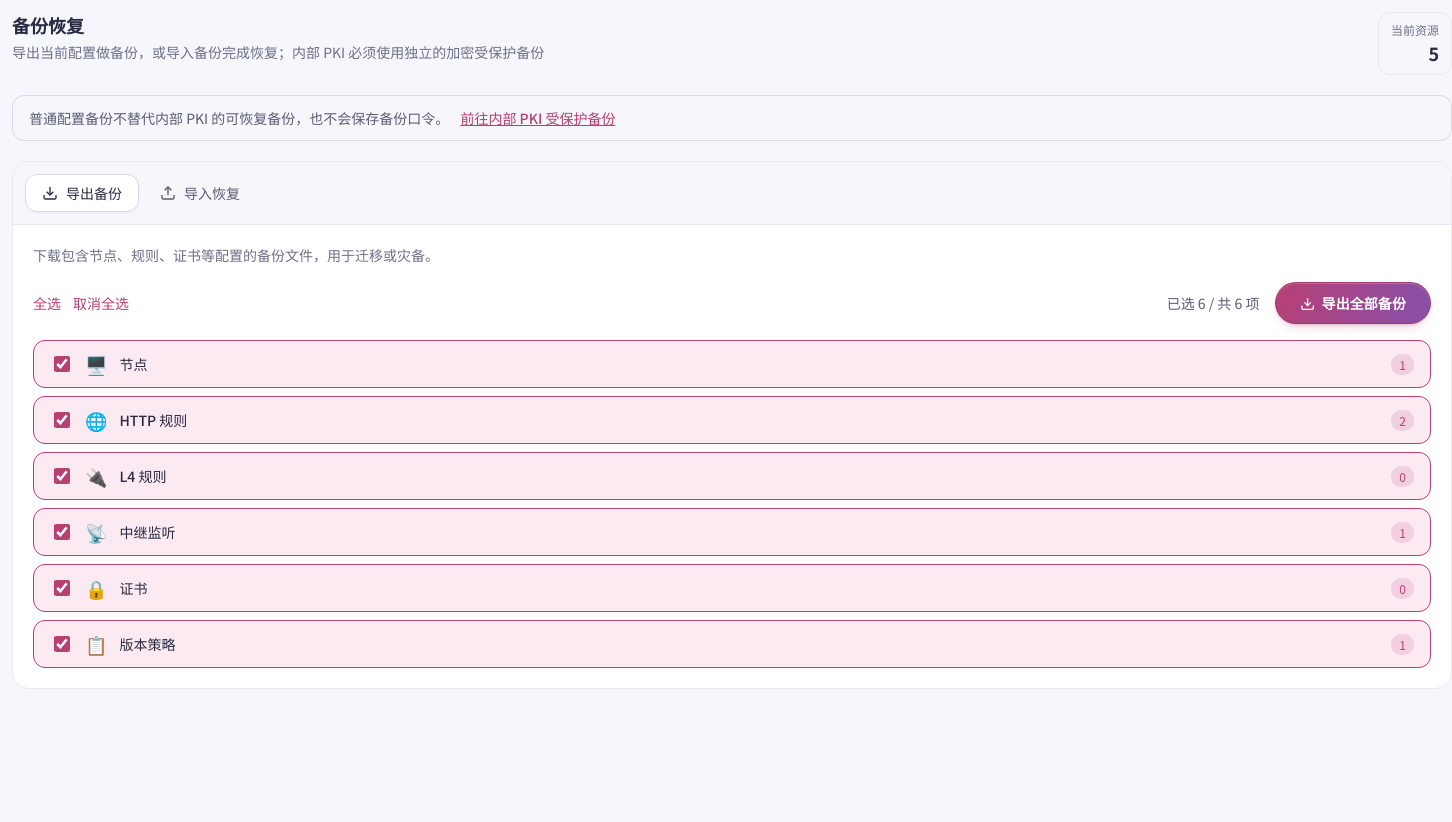
Test case: SettingsDataMgmt › switches to import panel when import tab is clicked
The width and height of the screenshot is (1452, 822).
Click the tab "导入恢复".
click(200, 193)  # box 143,174 -> 257,212
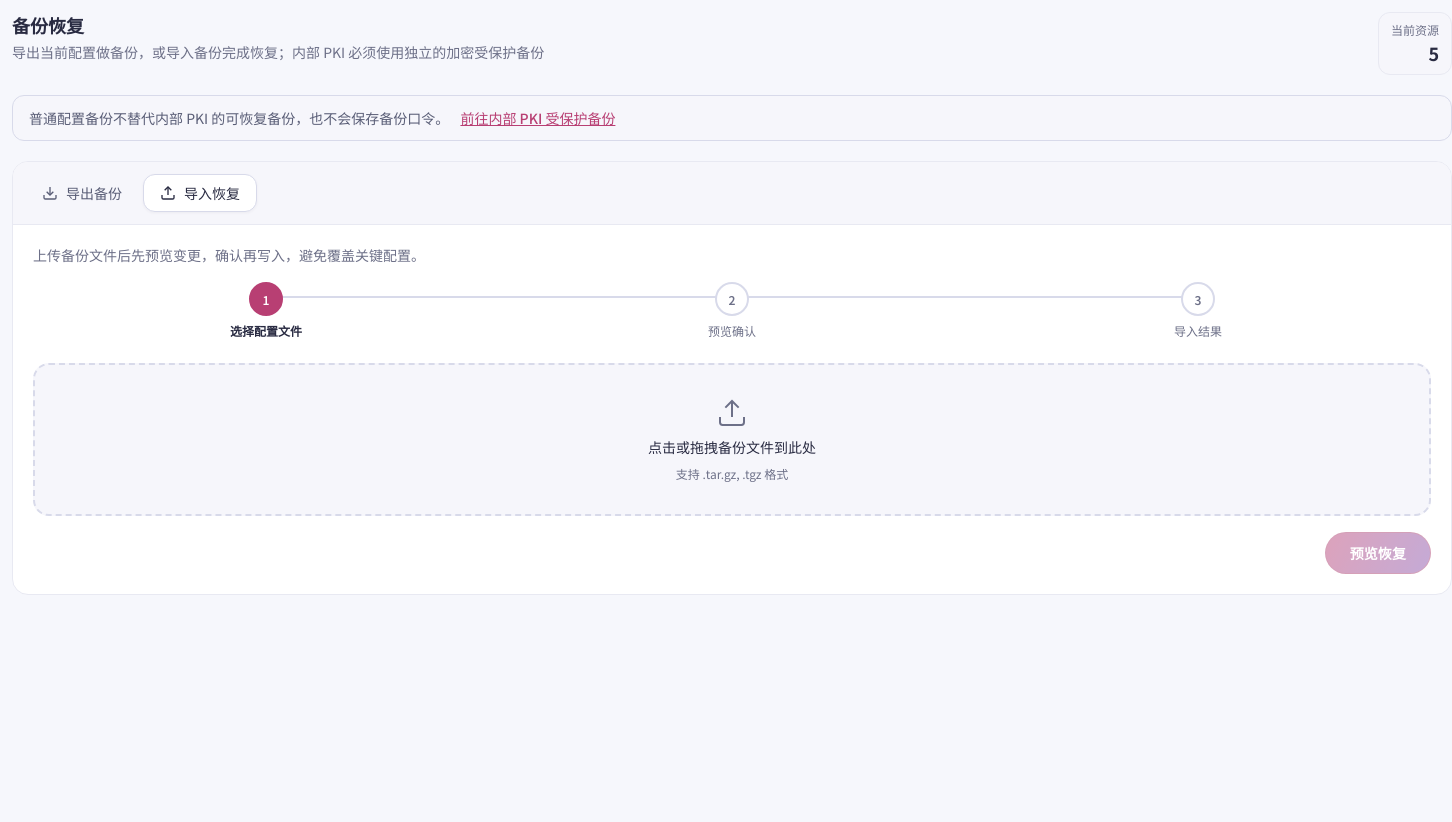
Expected: the panel shows "备份文件", 33,245 -> 425,265
